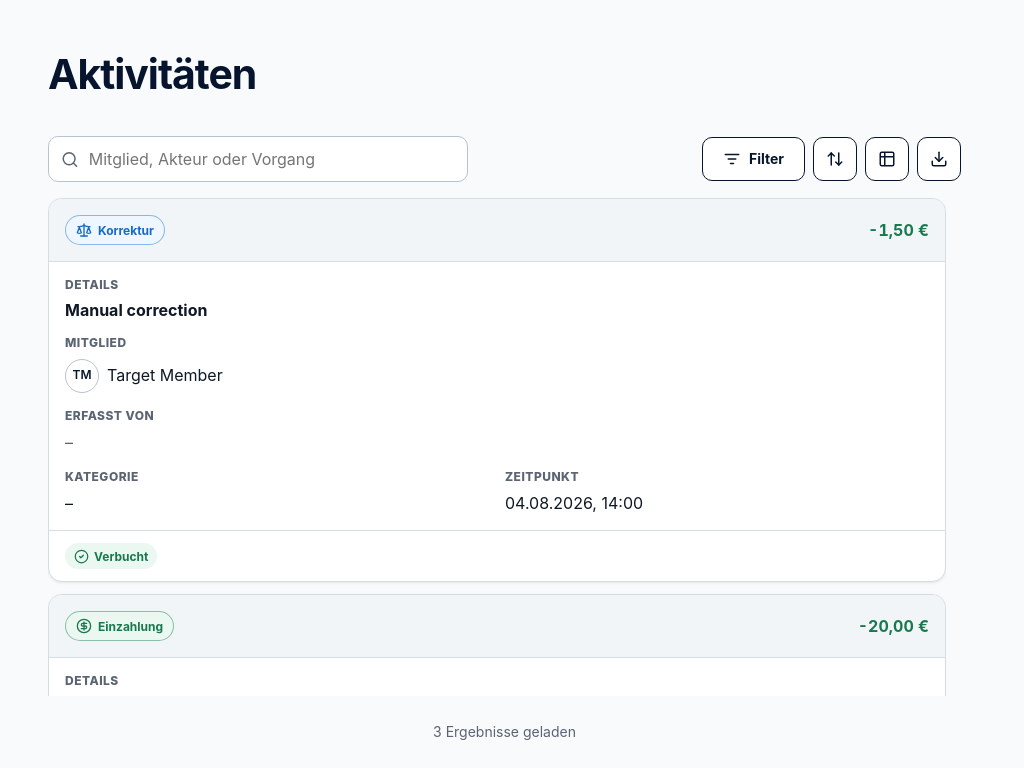
Scenario: ActivitiesPage unified feed › uses persistent cards by default on compact screens and toggles to the horizontal table
Expected: the button named "Sortieren" is shown, [813,137,857,181]
Step 1. Click the button named "Als Tabelle anzeigen" → (887, 159), box [865,137,909,181]
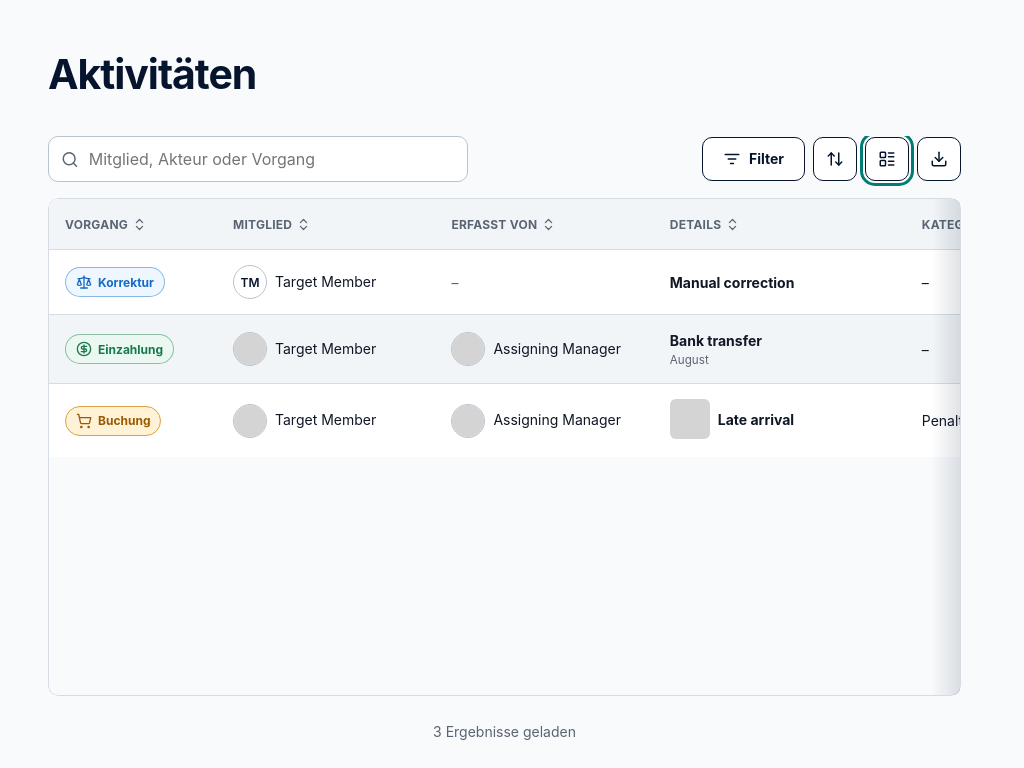
Expected: the button named "Sortieren" is shown, [813,137,857,181]
Step 2. Click the button named "Als Kacheln anzeigen" → (887, 159), box [865,137,909,181]
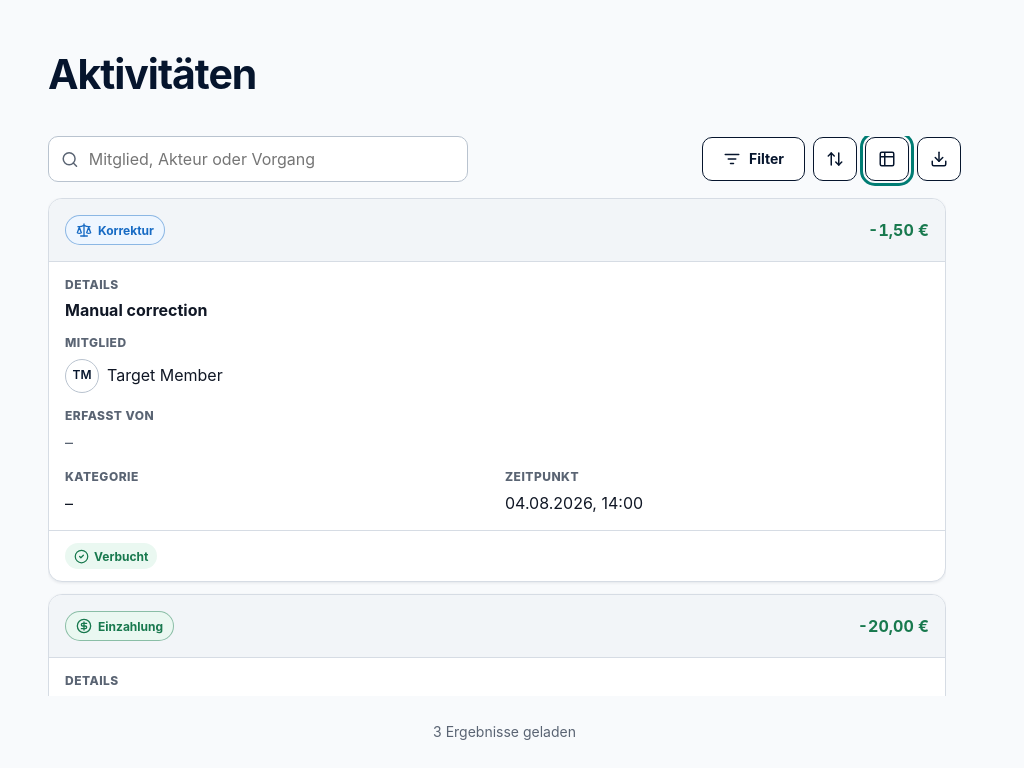
Expected: the button named "Sortieren" is shown, [813,137,857,181]
Result: the element named "Aktivitäten als Kacheln" is shown at [48,198,961,696]
